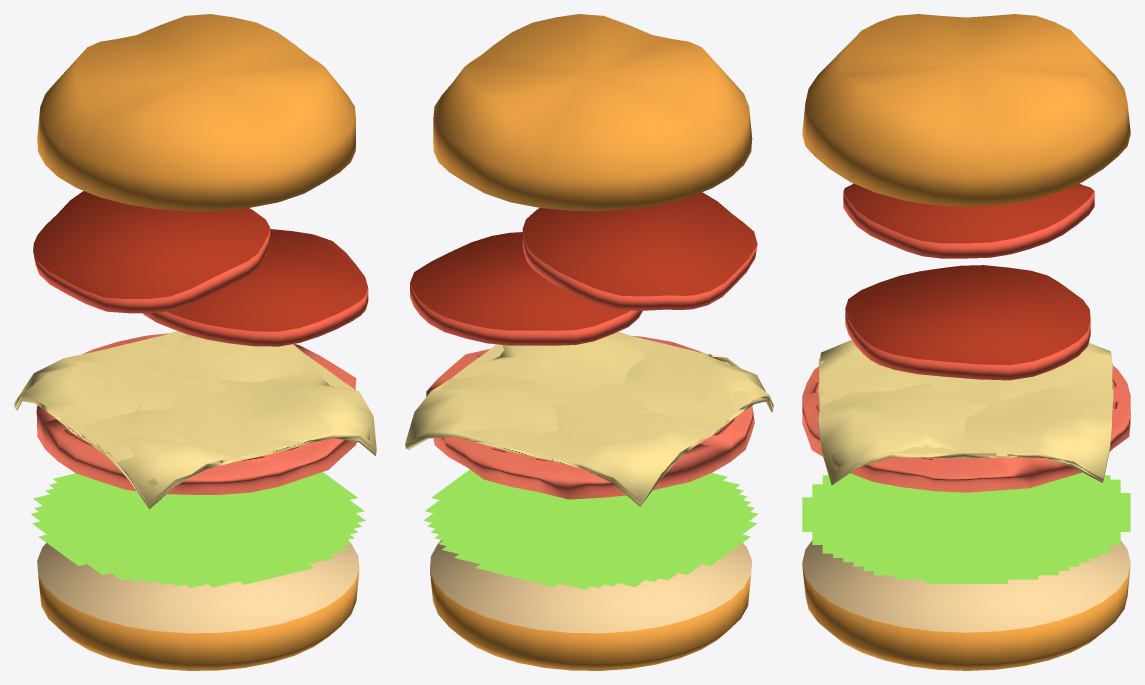
3 views of the same model, side by side, from view 1: azimuth 30°, elevation 25°; view 2: azimuth 150°, elevation 25°; view 3: azimuth 270°, elevation 25° (orthographic).
Parts seen in each view (by area): view 1: Circle.005, Cube.003, Circle.007, Plane.002, Circle.004, Cube.002; view 2: Circle.005, Circle.007, Cube.003, Plane.002, Circle.004, Cube.002; view 3: Circle.005, Circle.007, Cube.003, Plane.002, Circle.004, Cube.002.
Boxes of the visible parts, left/top/right/bottom form: Circle.005: left=37, top=14, right=355, bottom=211; Cube.003: left=14, top=331, right=376, bottom=509; Circle.007: left=33, top=191, right=368, bottom=346; Plane.002: left=31, top=472, right=365, bottom=588; Circle.004: left=37, top=540, right=359, bottom=670; Cube.002: left=36, top=333, right=356, bottom=494; Circle.005: left=433, top=14, right=752, bottom=211; Circle.007: left=410, top=192, right=757, bottom=345; Cube.003: left=405, top=331, right=773, bottom=507; Plane.002: left=423, top=469, right=758, bottom=589; Circle.004: left=430, top=540, right=752, bottom=670; Cube.002: left=426, top=336, right=754, bottom=499; Circle.005: left=802, top=14, right=1130, bottom=206; Circle.007: left=843, top=183, right=1094, bottom=380; Cube.003: left=818, top=340, right=1113, bottom=485; Plane.002: left=802, top=472, right=1130, bottom=583; Circle.004: left=802, top=540, right=1130, bottom=670; Cube.002: left=802, top=365, right=1130, bottom=492.
Size of the model in its own units: 2.13 by 3.7 by 2.
